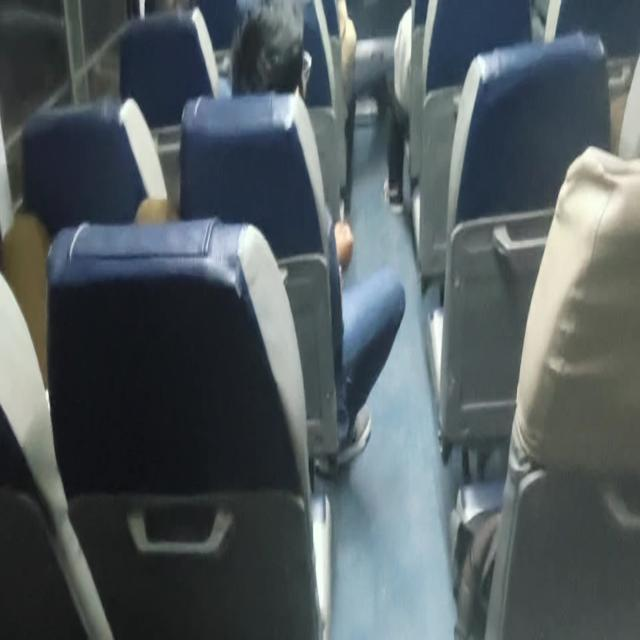person: (229, 2, 406, 466), (230, 2, 354, 269)
